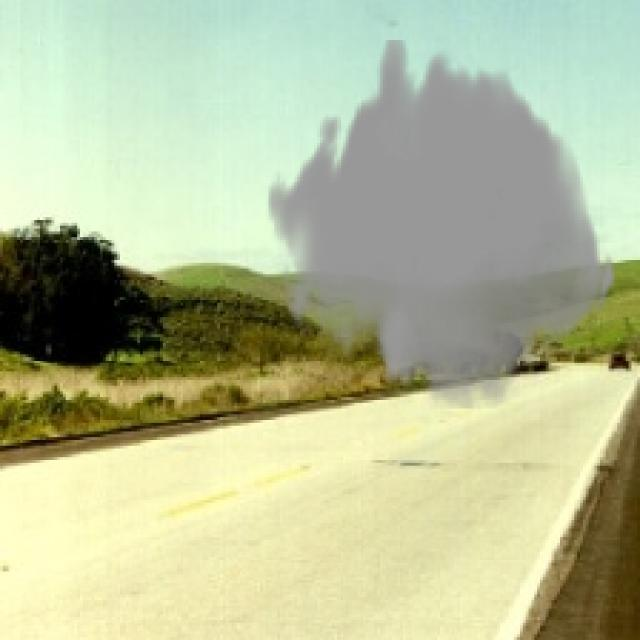Smoke: (266, 40, 618, 409)
